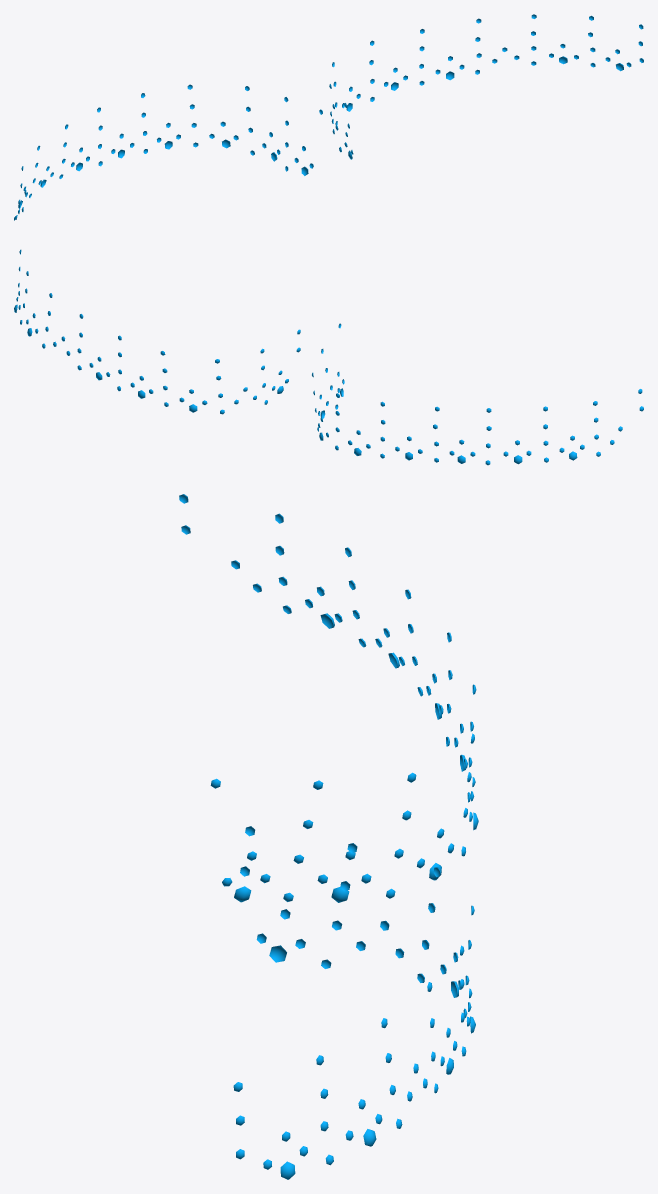
File: crystals-back_curve.glb
The picture shows the model from 3 angles, top to bottom: view 1: azimuth 30°, elevation 25°; view 2: azimuth 150°, elevation 25°; view 3: azimuth 270°, elevation 25°; orthographic projection. The views are drawn at different scales.
Parts seen in each view (by area): view 1: crystals-back_curve; view 2: crystals-back_curve; view 3: crystals-back_curve.
Boxes of the visible parts, <box> form: crystals-back_curve: <box>14,14,643,220</box>; crystals-back_curve: <box>14,249,643,465</box>; crystals-back_curve: <box>179,494,478,1179</box>.
Bounding box in the file's own units: 2.05 × 0.2366 × 0.434.
